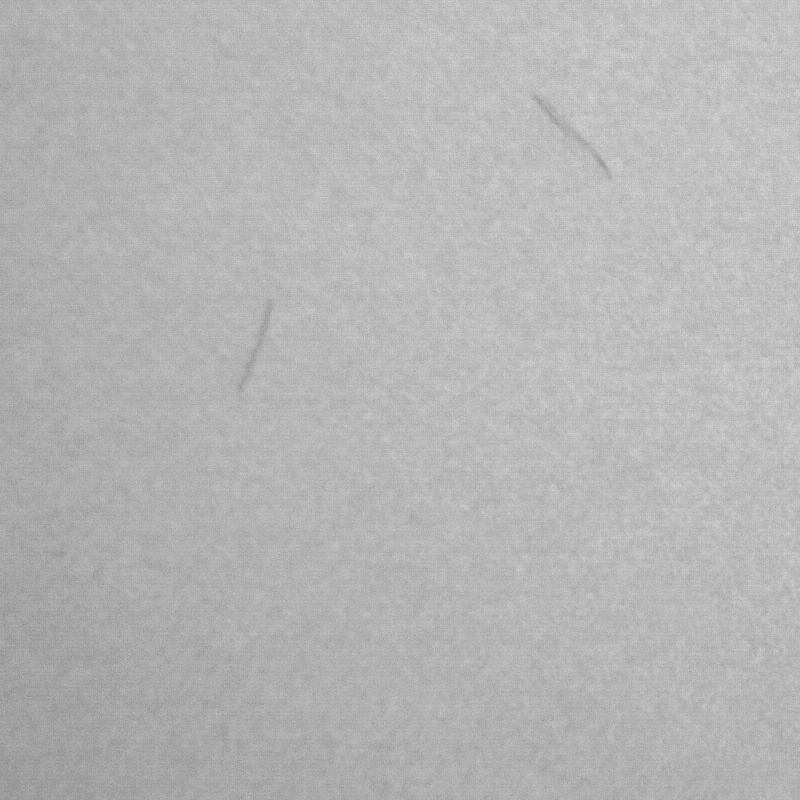defect: (530, 90, 614, 177), (233, 295, 271, 395)
